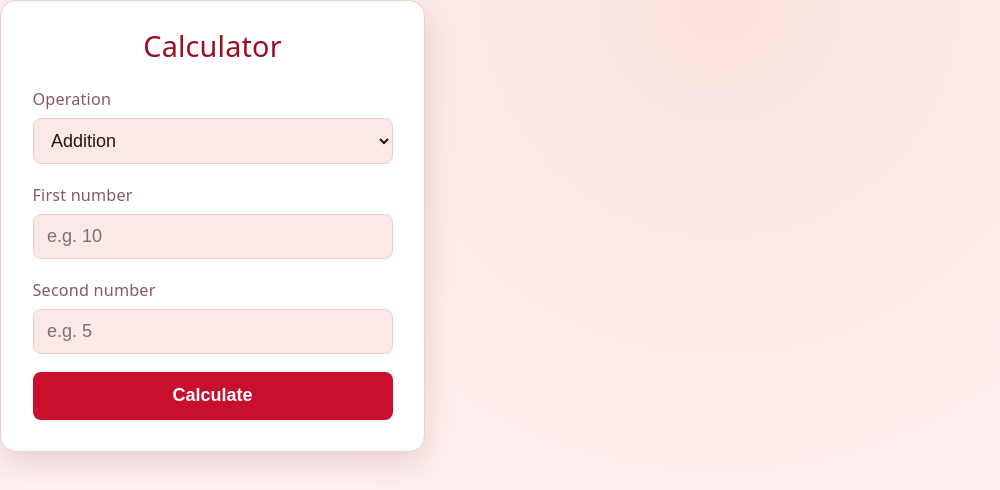
Test case: Calculator › hides the second operand field for sqrt
This screenshot has width=1000, height=490.
Select "Square root" in the dropdown labelled "Operation" at [212, 141], box [32, 118, 392, 164]
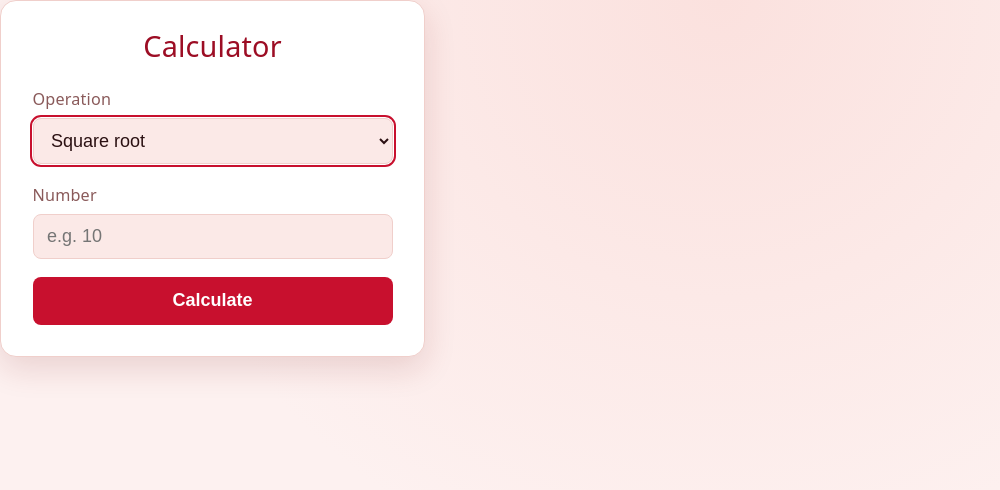
Expected: the field labelled "Number" is shown, [32, 214, 392, 259]
Expected: the text labelled "Second number" is gone
